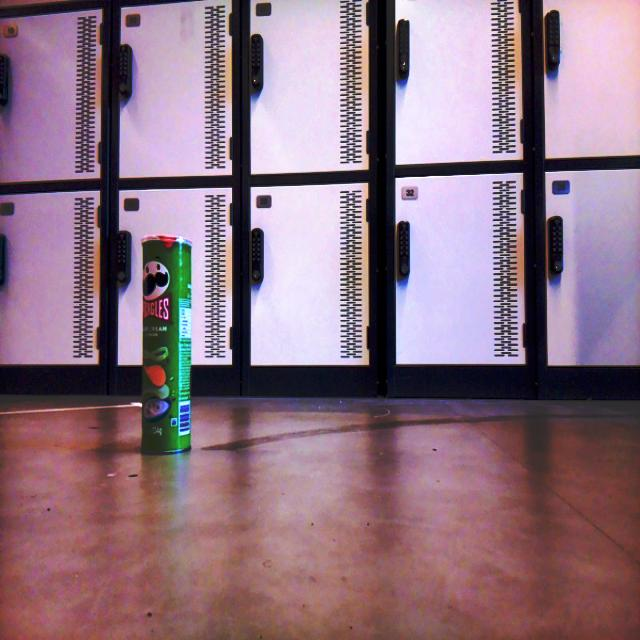greenpringles: (133, 230, 204, 466)
